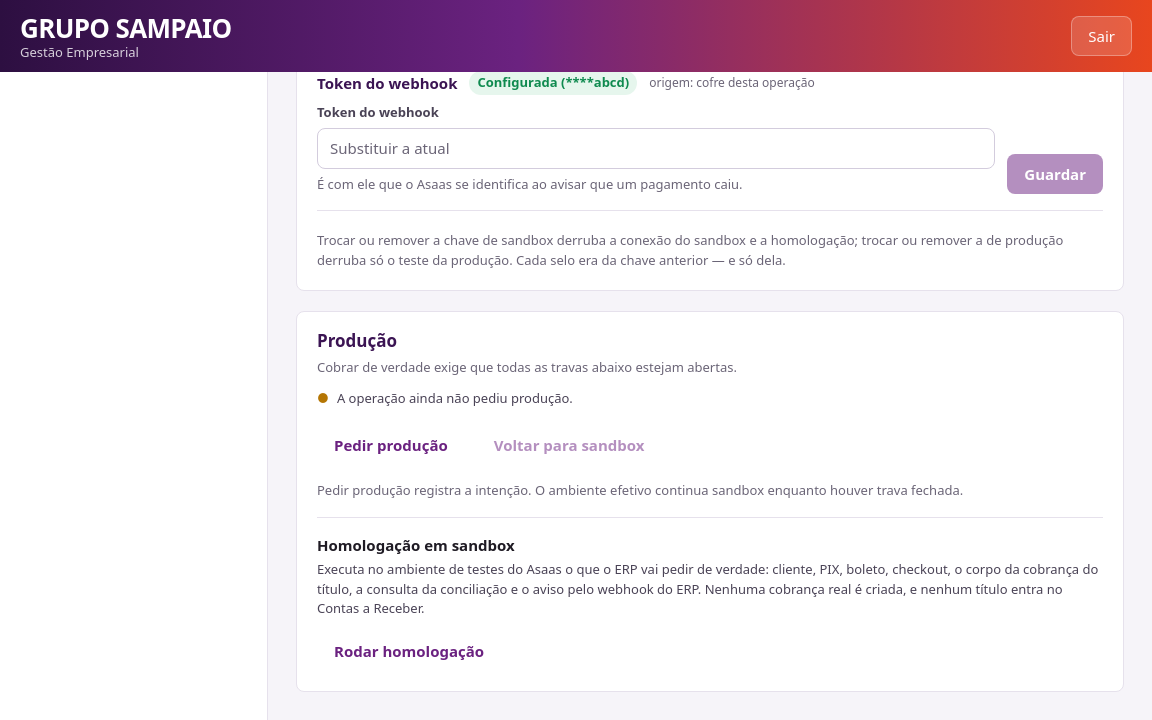
Test: GAP-PRD-169 — a tela da homologação diz o que foi executado › "não se aplica" e "aguardando" não são verdes, e a promessa antiga saiu
The image size is (1152, 720).
(page scrolled)
Click the button "Rodar homologação".
click(409, 651)  # box [317,630,501,671]
(page scrolled)
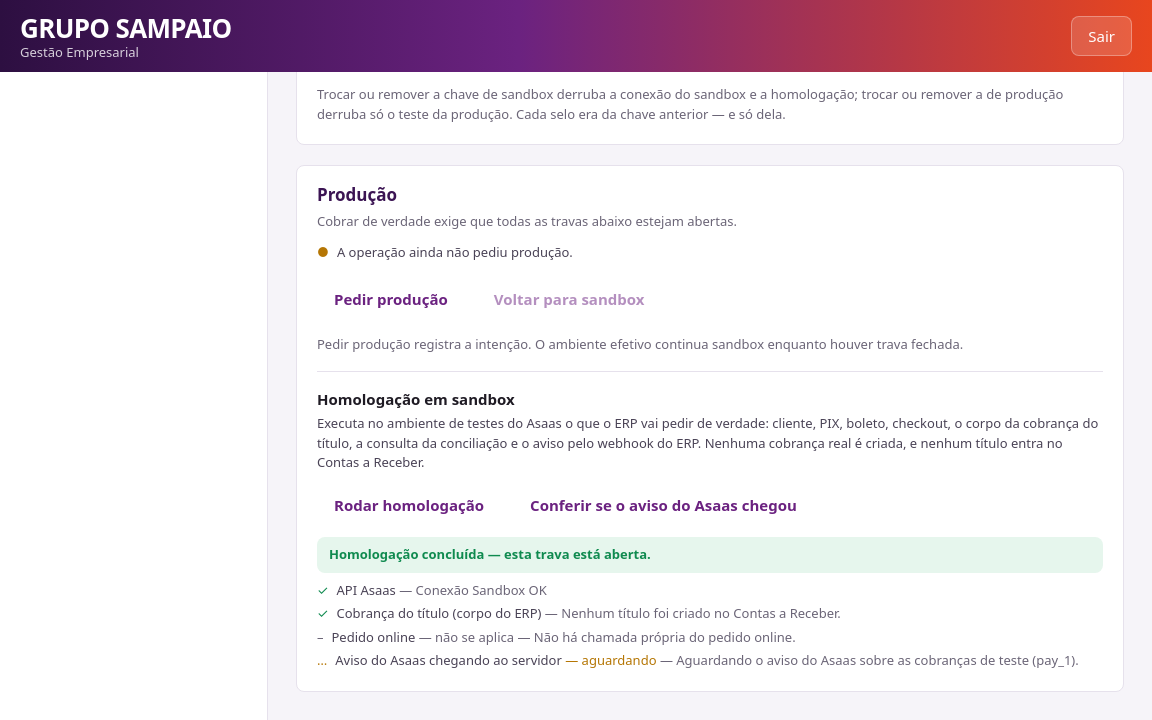
Check: the text "Homologação concluída — esta trava está aberta." is shown, box [317,537,1103,572]
Check: the list item with test id "passo-ecommerce_bridge" shows "não se aplica", box [415,628,514,646]
Check: the list item with test id "passo-webhook_external" shows "aguardando", box [562,651,656,669]
